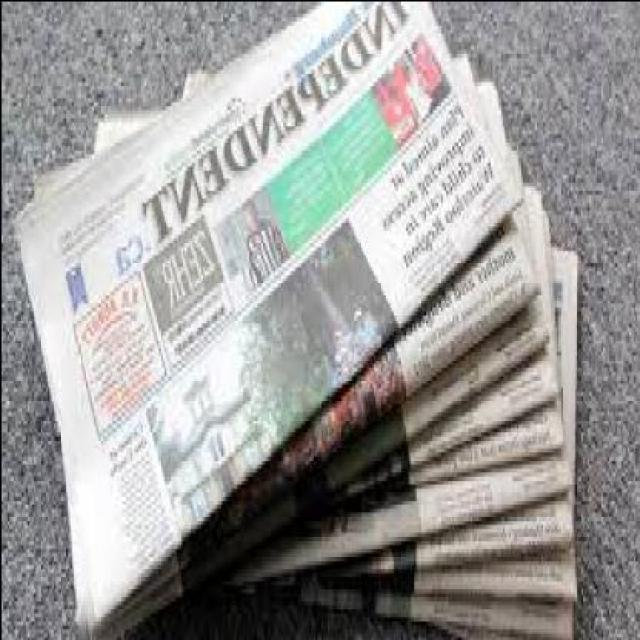PAPER: (16, 1, 522, 632), (79, 206, 559, 636), (101, 173, 550, 632), (76, 246, 579, 636), (98, 72, 537, 443), (183, 48, 542, 418)
